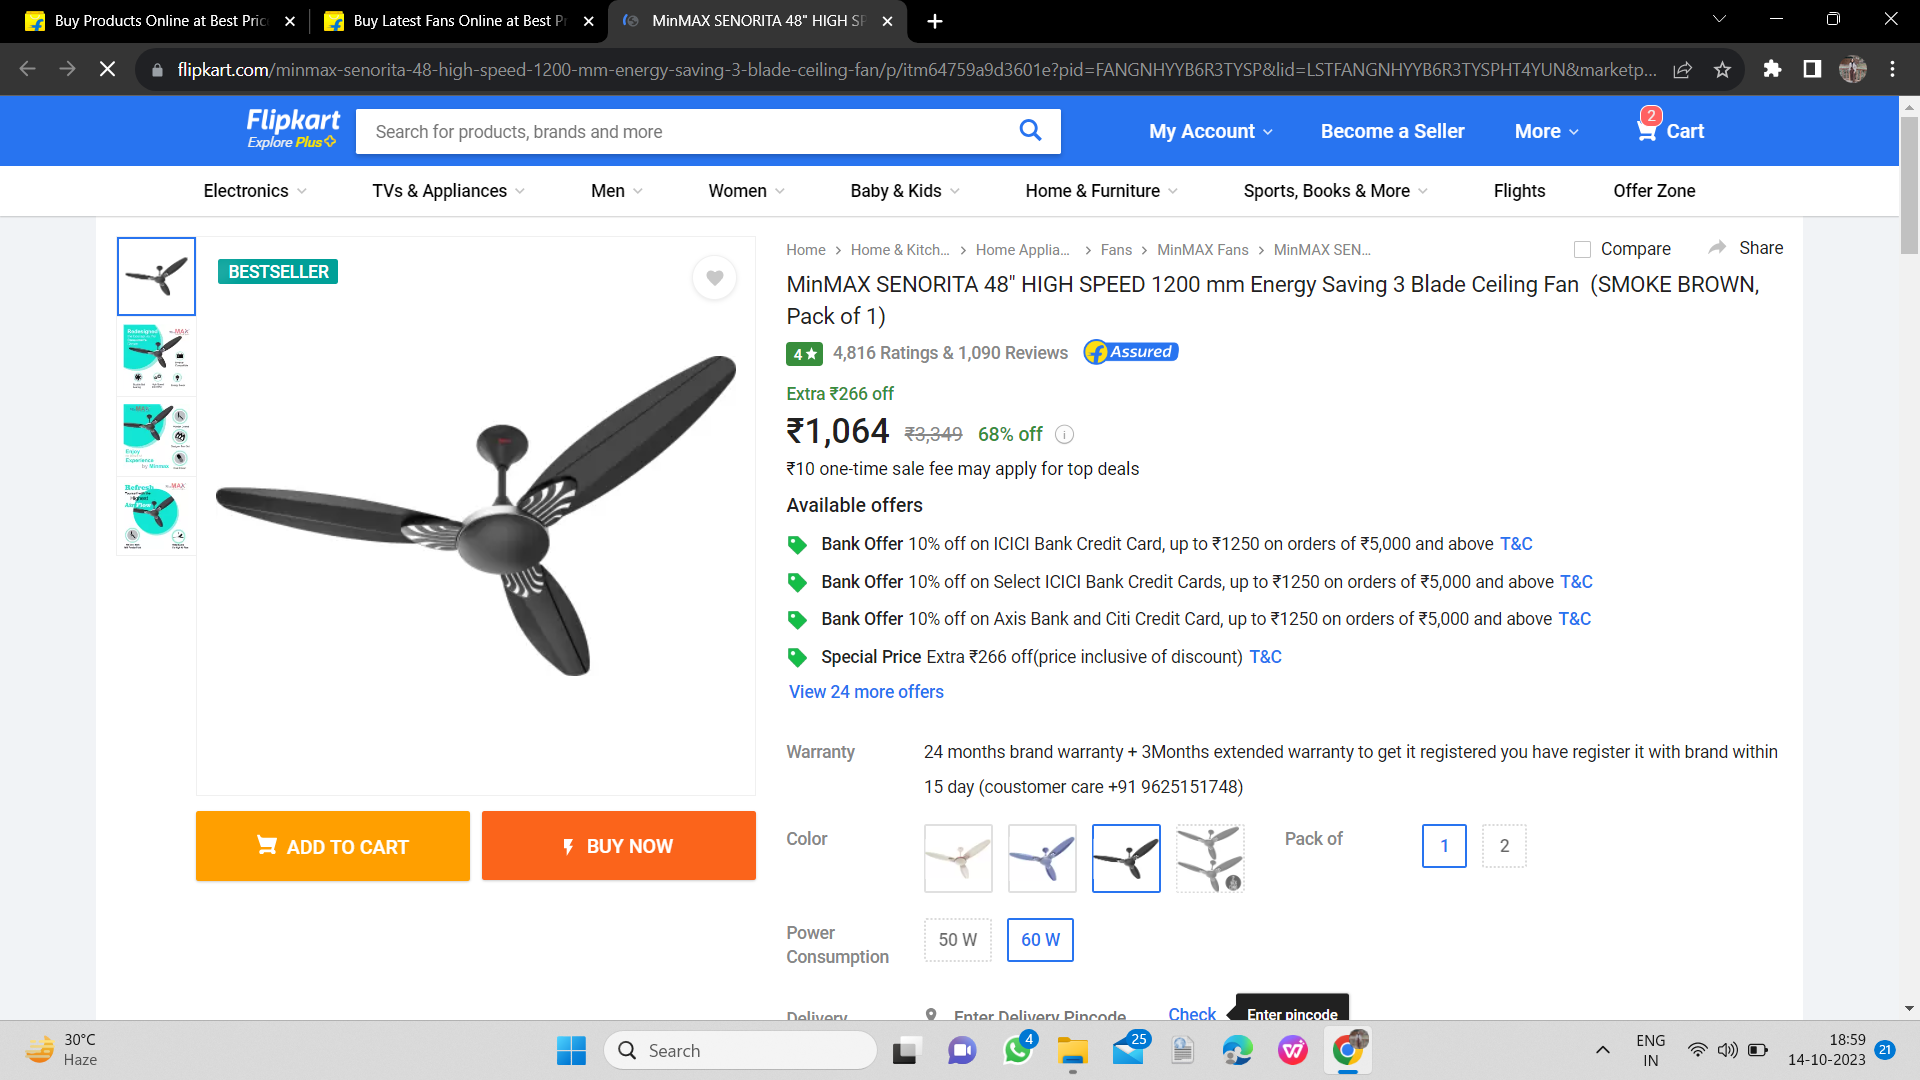Image: (210, 245, 746, 720)
Paragraph: (781, 530, 1598, 702), (774, 732, 1791, 804), (785, 265, 1764, 332), (187, 800, 760, 891), (777, 815, 1265, 899), (783, 380, 1150, 483), (1120, 99, 1720, 153), (767, 913, 1085, 984), (1276, 824, 1543, 878), (783, 339, 1191, 371), (779, 492, 923, 518)
